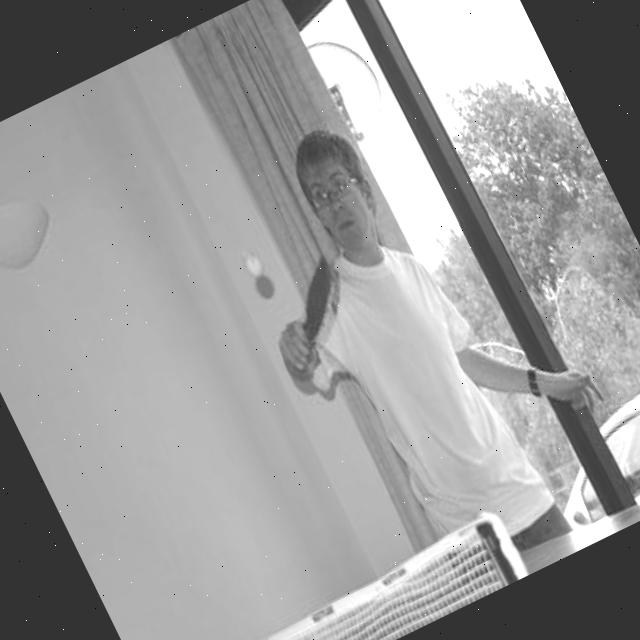ping-pong-ball: (236, 245, 269, 282)
